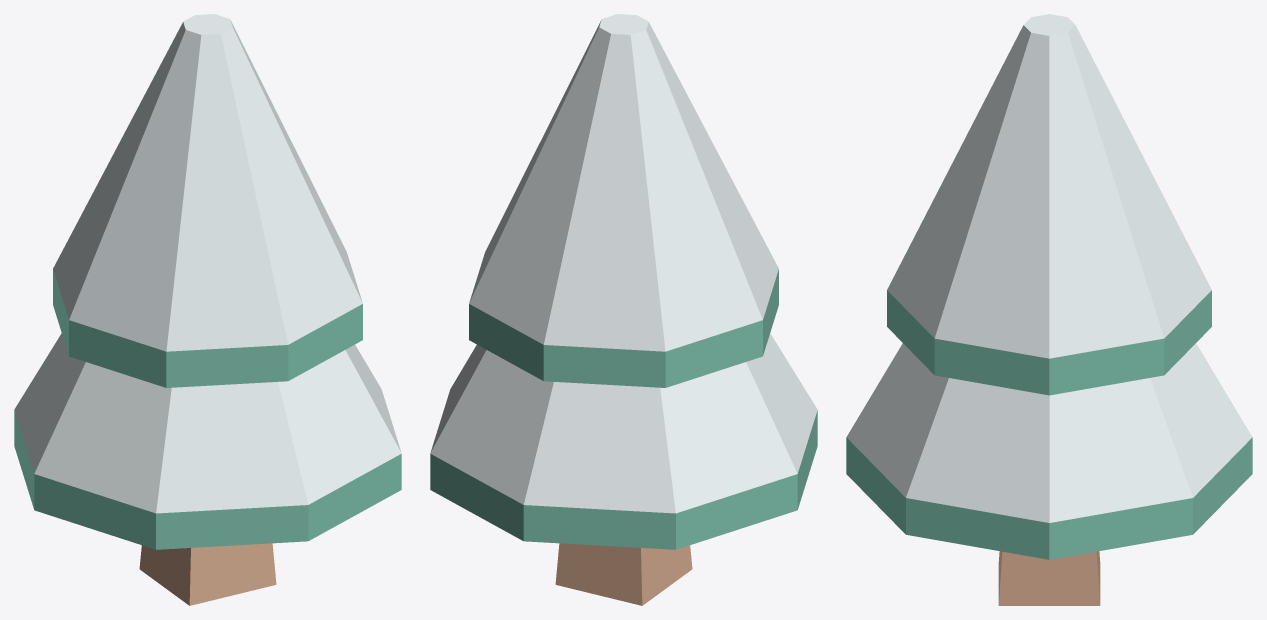
Rendered from snow_detail_treeLarge.glb.
3 renders of one model, left to right at view 1: azimuth 30°, elevation 25°; view 2: azimuth 150°, elevation 25°; view 3: azimuth 270°, elevation 25°, orthographic.
Parts seen in each view (by area): view 1: snow_detail_treeLarge; view 2: snow_detail_treeLarge; view 3: snow_detail_treeLarge.
Part boxes in pixels (x1,y1,x2,y2): snow_detail_treeLarge: [14, 14, 401, 605]; snow_detail_treeLarge: [430, 14, 817, 605]; snow_detail_treeLarge: [846, 14, 1252, 605].
Bounding box in the file's own units: 0.5 × 0.76 × 0.5.
